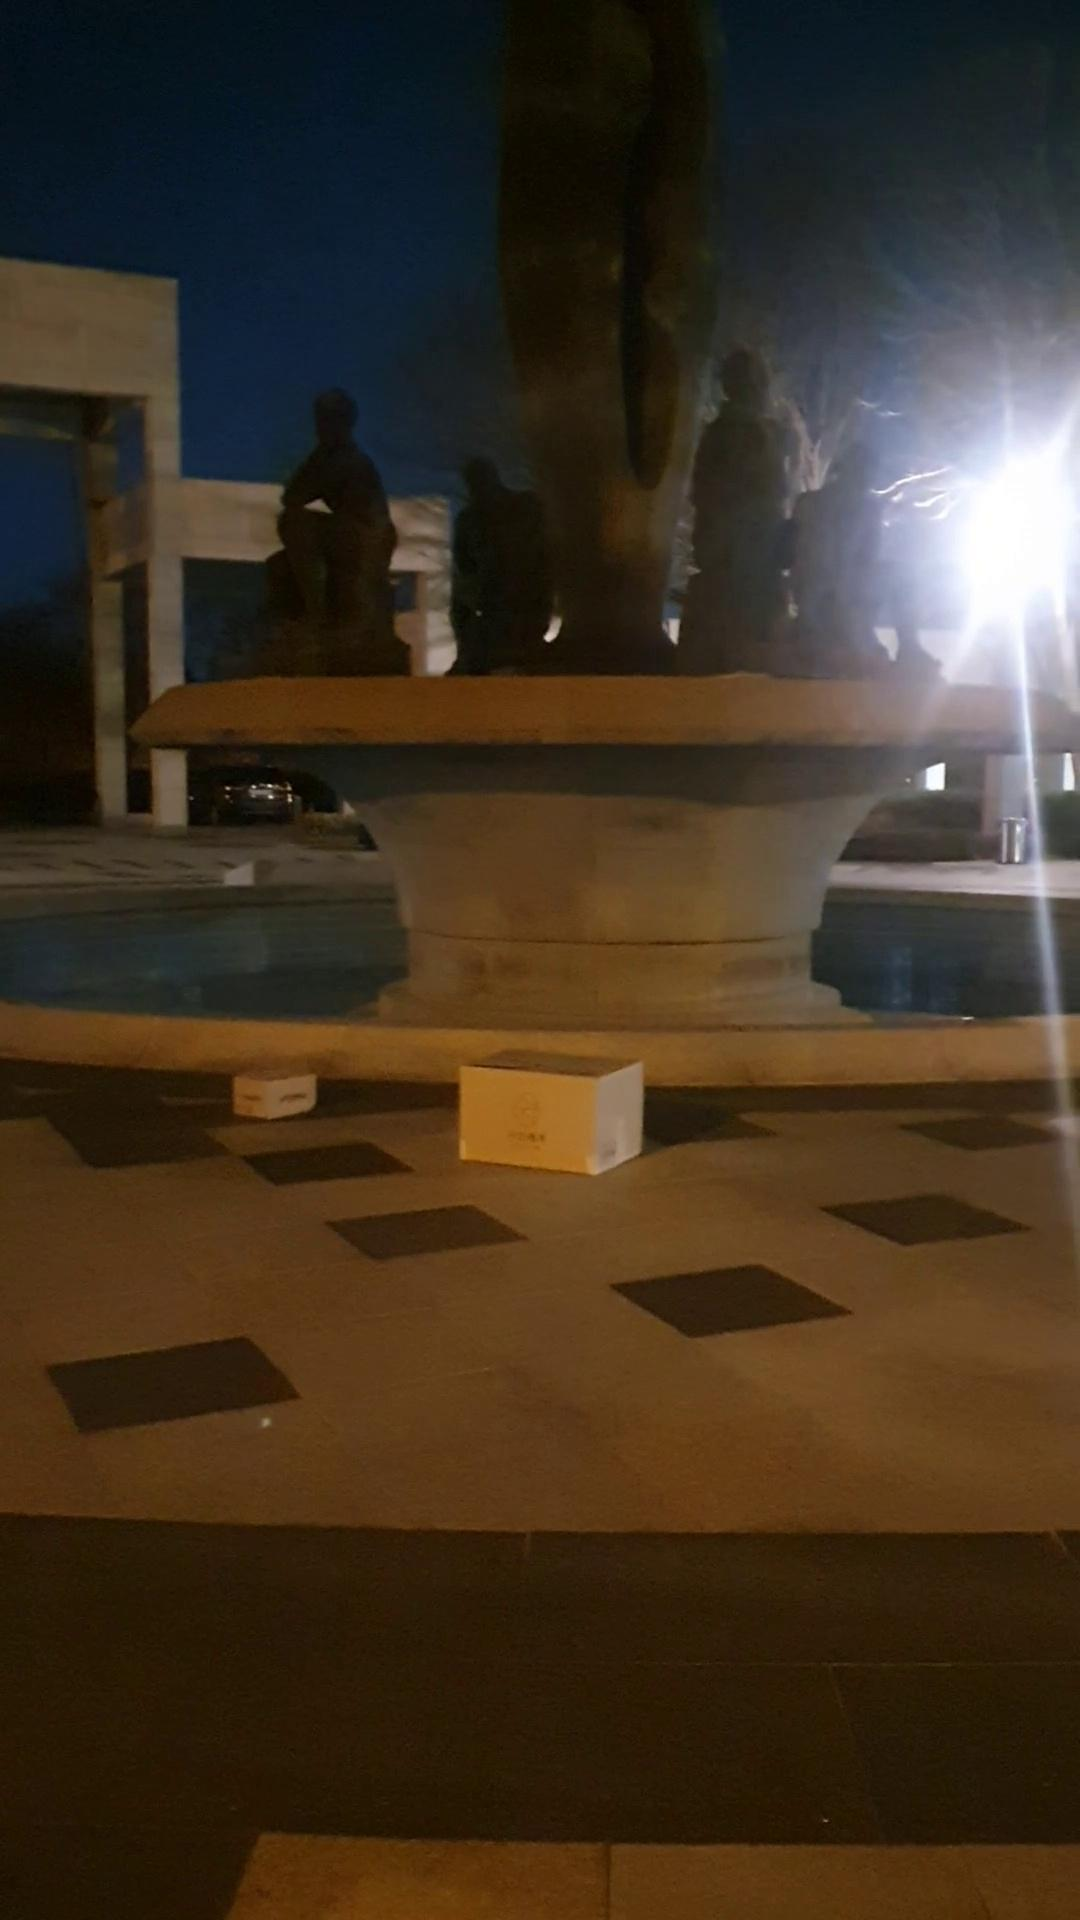Box: (456, 1030, 653, 1195), (218, 1035, 316, 1125)
